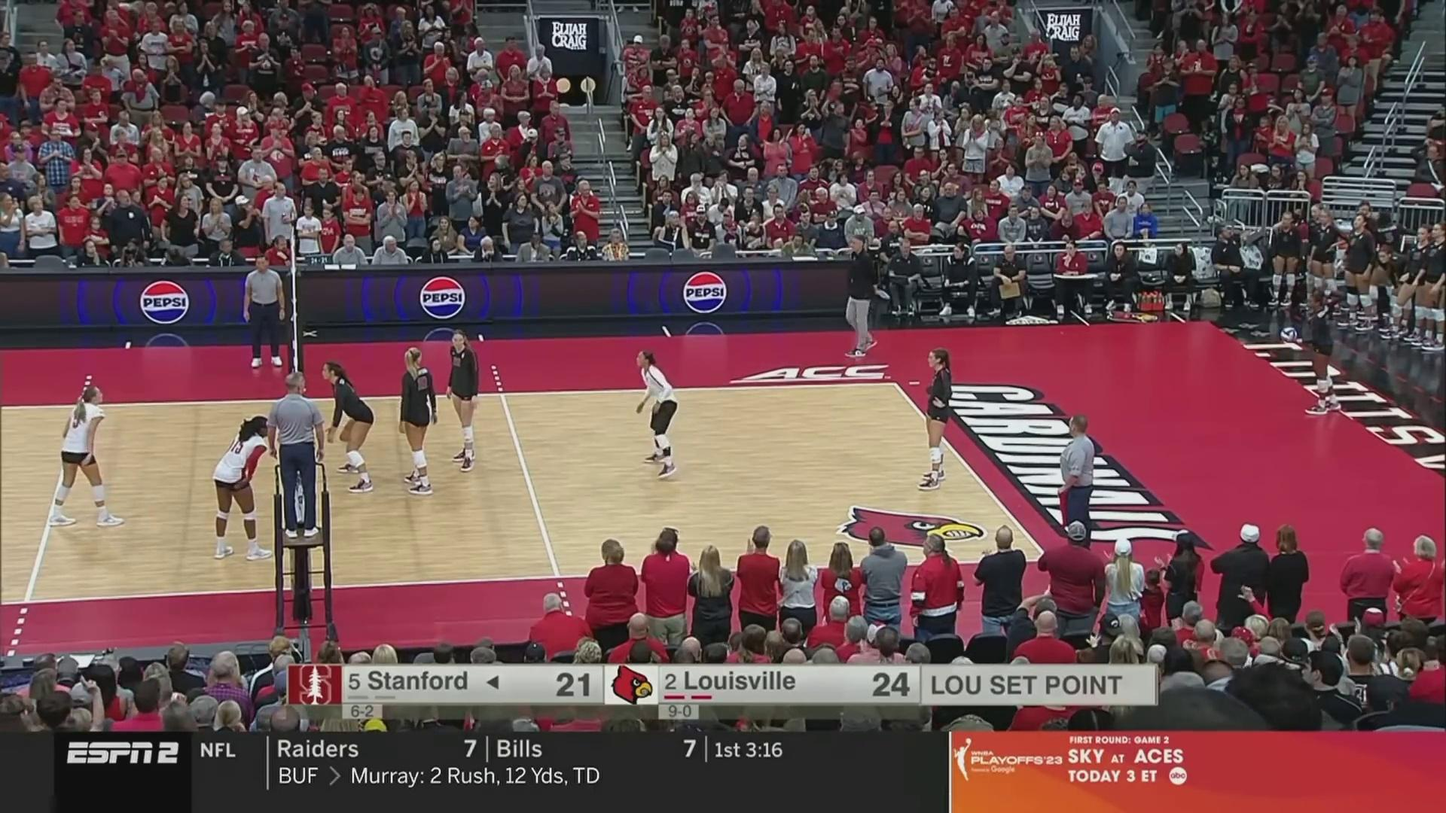player: (54, 385, 123, 528), (210, 417, 274, 561), (322, 360, 378, 491), (397, 346, 441, 493), (635, 349, 682, 477), (447, 331, 483, 476), (1303, 291, 1343, 417), (922, 348, 956, 490)
refree: (271, 370, 326, 541), (1057, 416, 1103, 574), (243, 253, 288, 369)
